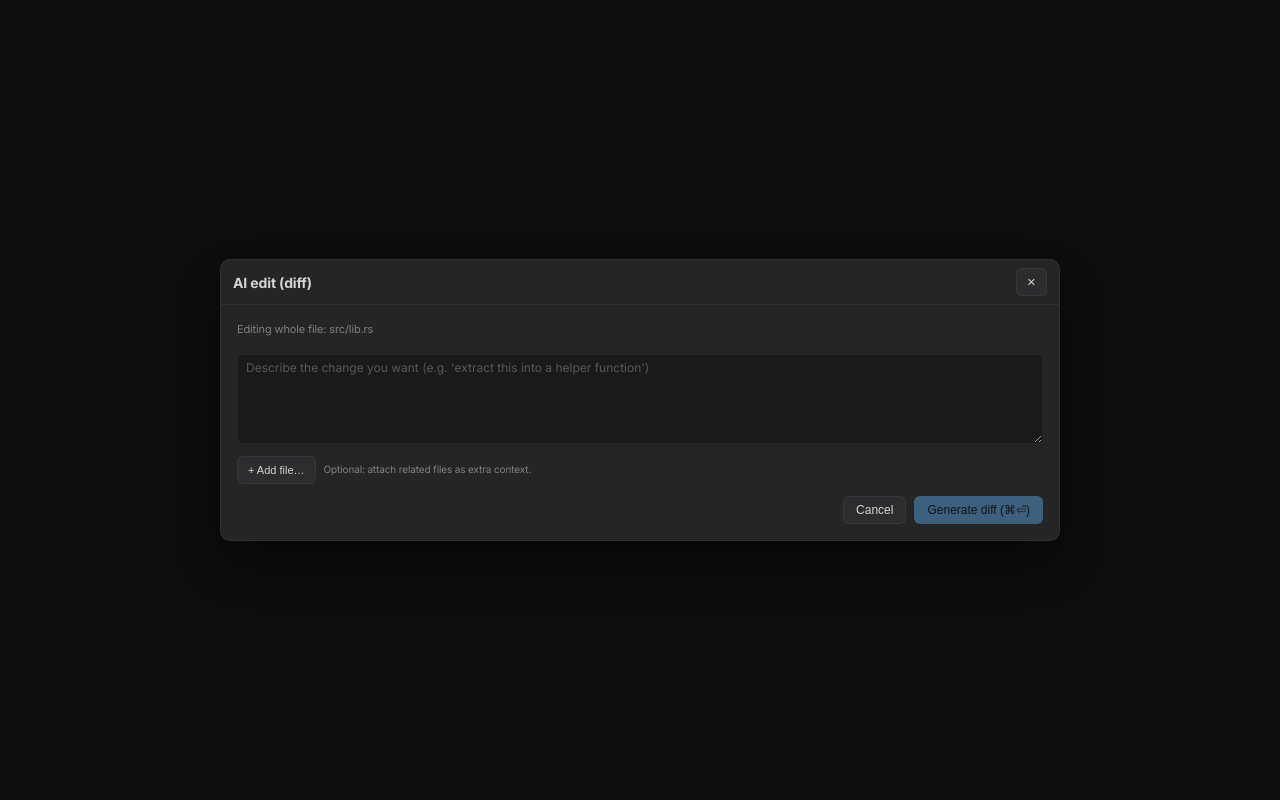
Test: DiffCompleteModal — flow › Regenerate button is disabled when refinement is empty
Replace the text in the text box with placeholder "Describe the change" with "x" at (640,399), box [237,354,1043,444]
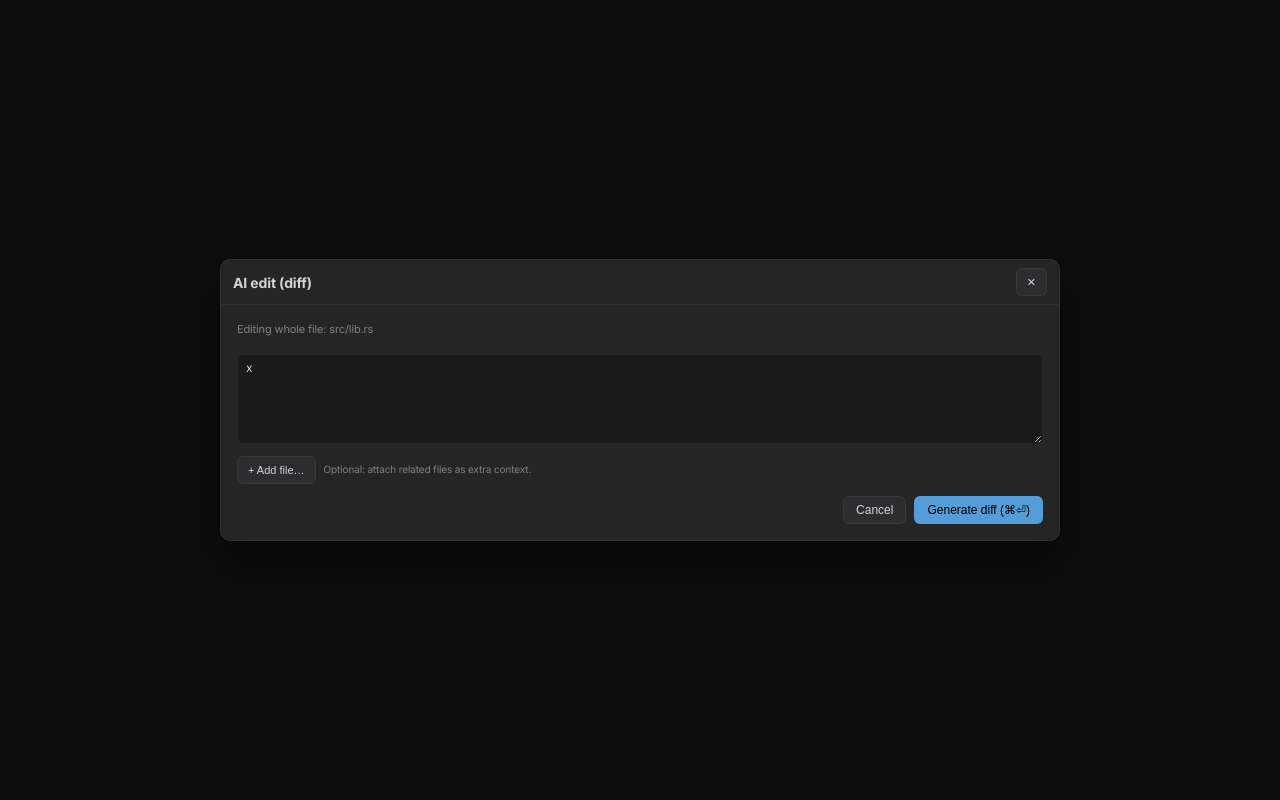
Click the button "Generate diff (⌘⏎)" at (979,510), box [914,496,1043,524]
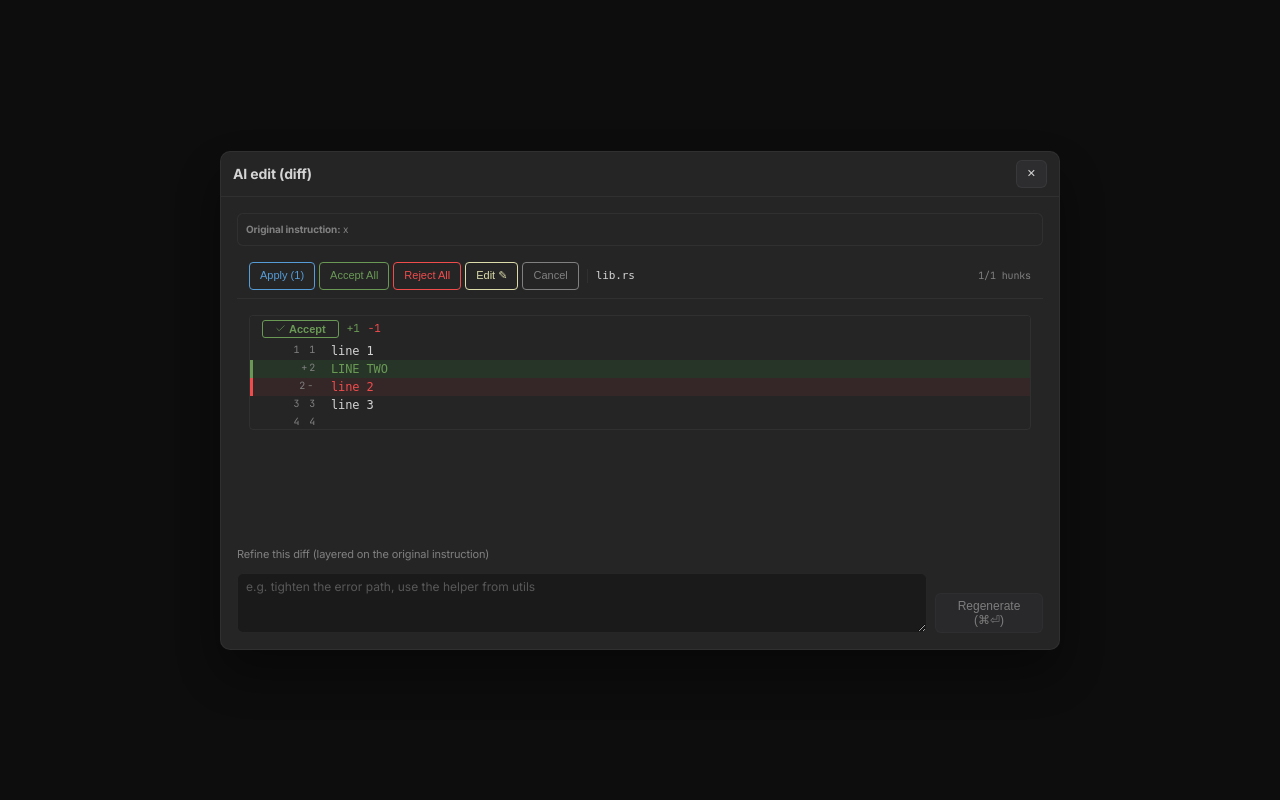
Result: the button with aria-label "Regenerate with refinement" is disabled at [935,592,1043,632]
